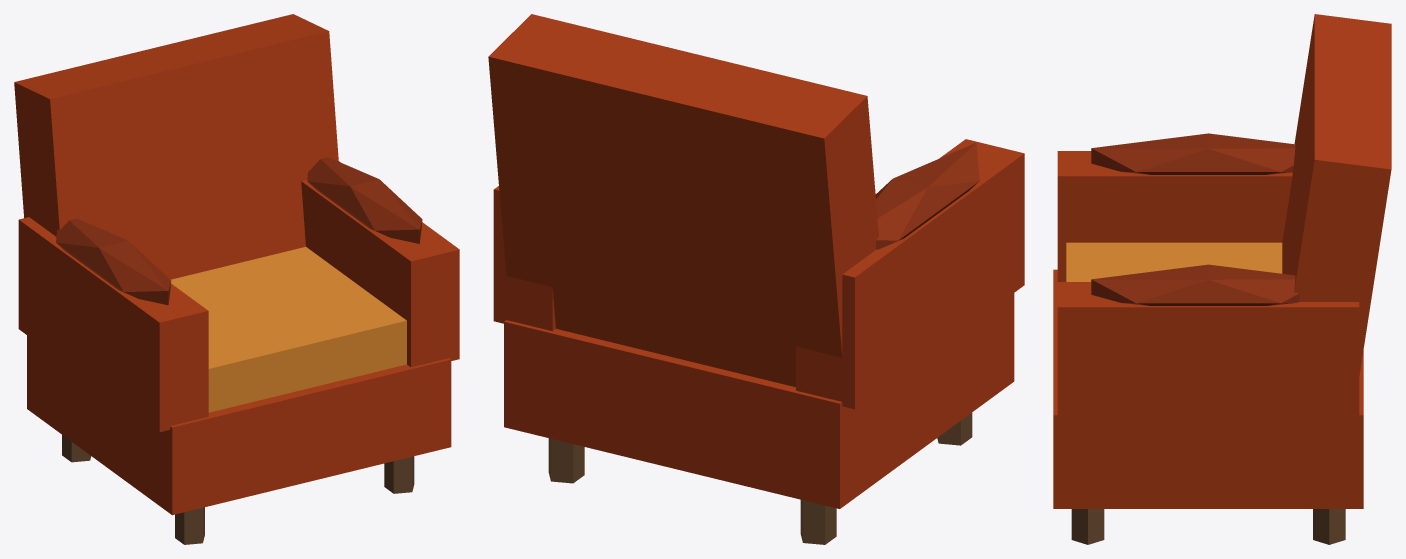
File: armchair.glb
The picture shows the model from 3 angles, left to right: view 1: azimuth 30°, elevation 25°; view 2: azimuth 150°, elevation 25°; view 3: azimuth 270°, elevation 25°; orthographic projection. The views are drawn at different scales.
Parts seen in each view (by area): view 1: armchair; view 2: armchair; view 3: armchair.
Boxes of the visible parts, bbox=[...] form: armchair: bbox=[14, 14, 459, 544]; armchair: bbox=[488, 14, 1024, 544]; armchair: bbox=[1053, 14, 1391, 544].
Bounding box in the file's own units: 0.86 × 1.01 × 0.7844.
